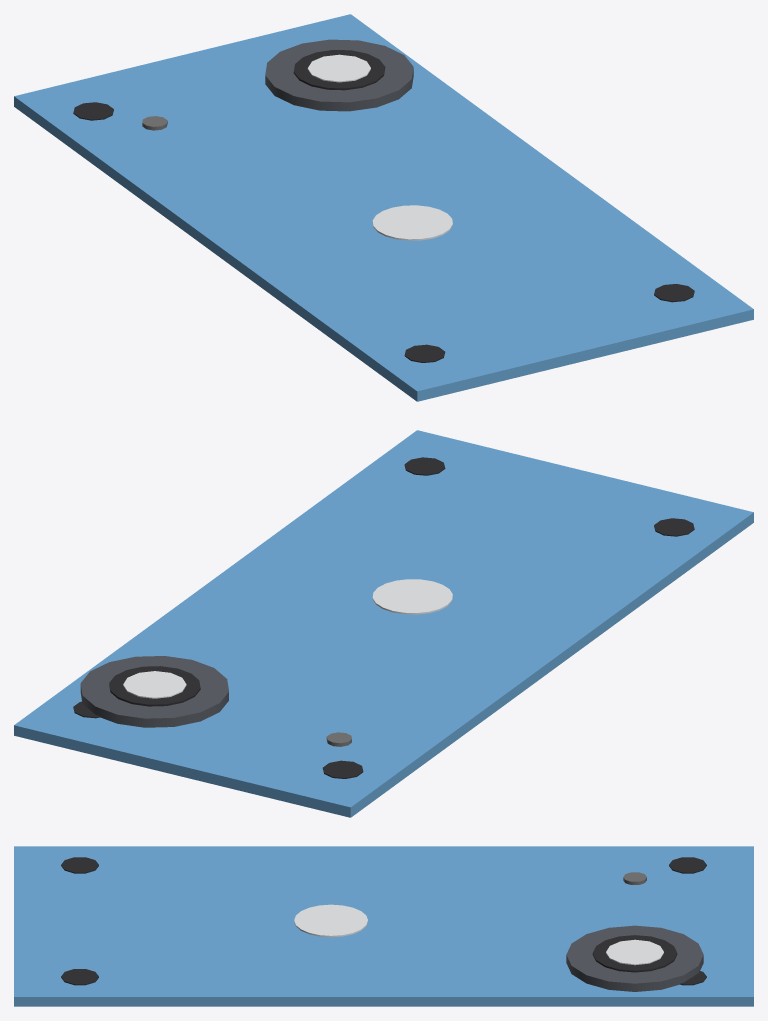
The model's file is phone-back.glb.
3 views of the same model, one above another, from view 1: azimuth 30°, elevation 25°; view 2: azimuth 150°, elevation 25°; view 3: azimuth 270°, elevation 25° (orthographic). The views are drawn at different scales.
Parts seen in each view (by area): view 1: cover; view 2: cover; view 3: cover.
Boxes of the visible parts, bbox=[...] form: cover: bbox=[14, 14, 753, 401]; cover: bbox=[14, 430, 753, 817]; cover: bbox=[14, 846, 753, 1006].
Size of the model in its own units: 0.135 by 0.0086 by 0.28.
